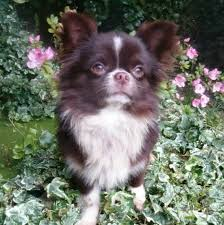chihuahua: (30, 8, 193, 225)
